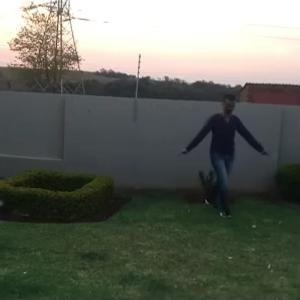land: (185, 108, 263, 217)
